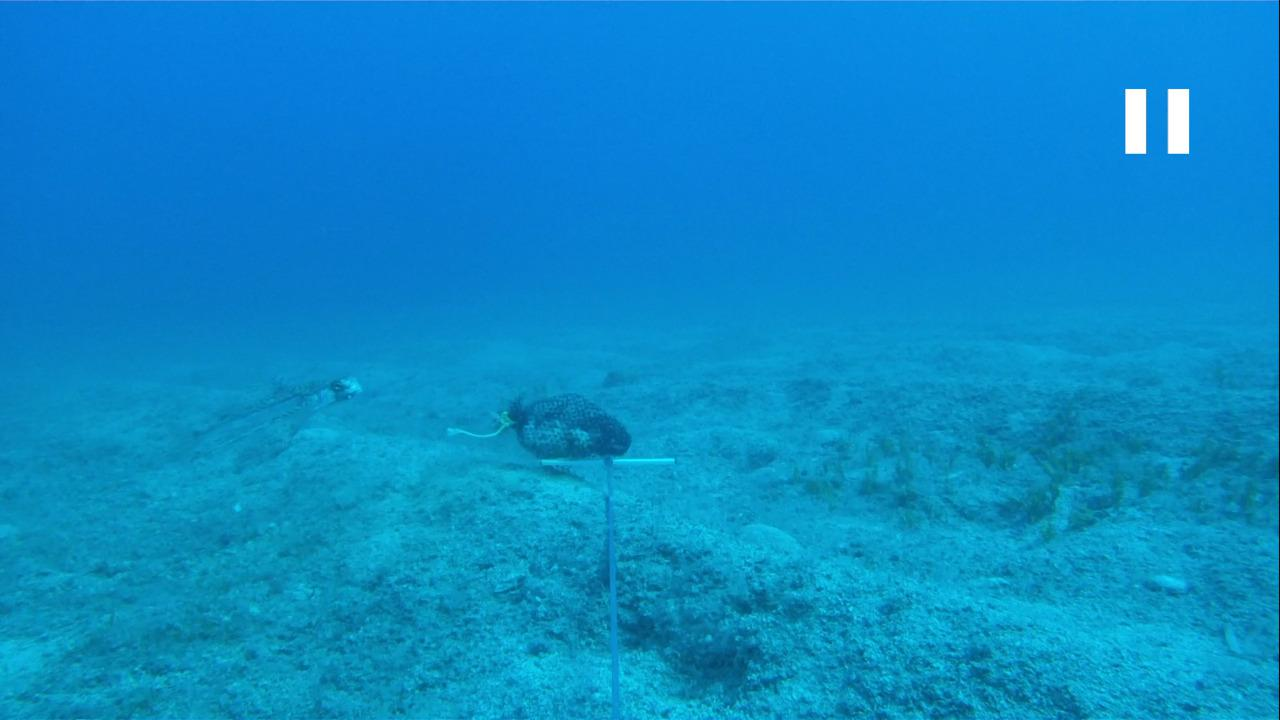dactylopterus: (144, 367, 367, 476)
